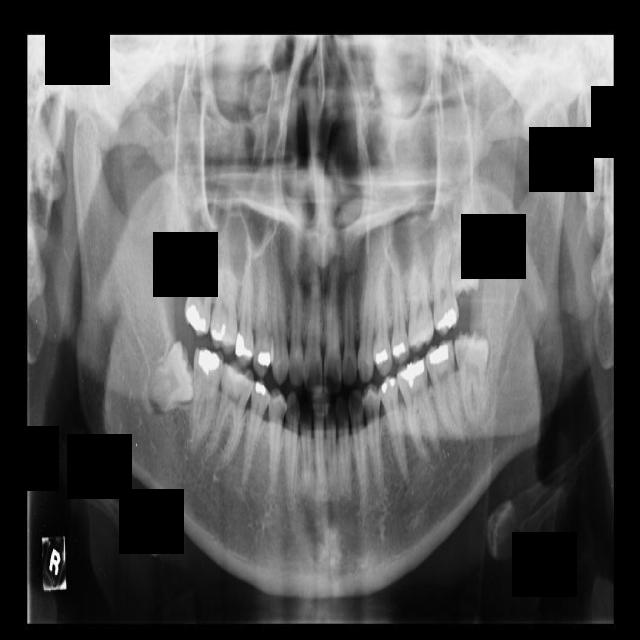3M ESPE Implant: (164, 170, 202, 285)
52: (421, 337, 460, 376), (430, 294, 463, 340), (184, 285, 212, 338), (395, 354, 429, 395), (192, 343, 224, 383), (210, 310, 238, 355), (370, 335, 395, 378), (247, 375, 274, 414), (252, 337, 274, 377), (388, 329, 412, 365), (236, 330, 255, 369), (376, 373, 401, 400), (289, 347, 306, 385), (457, 349, 465, 367), (449, 353, 455, 369)
73: (621, 611, 632, 620)
BioHorizons Implant: (429, 202, 460, 342)
BioLife Implant: (449, 188, 480, 299)
Biomet 3i Implant: (452, 327, 499, 428)
Blue Sky Bio Implant: (423, 338, 464, 443)
Caries: (181, 214, 221, 338)
Implant: (191, 344, 225, 439)
Keystone Dental Implant: (143, 340, 197, 408)
